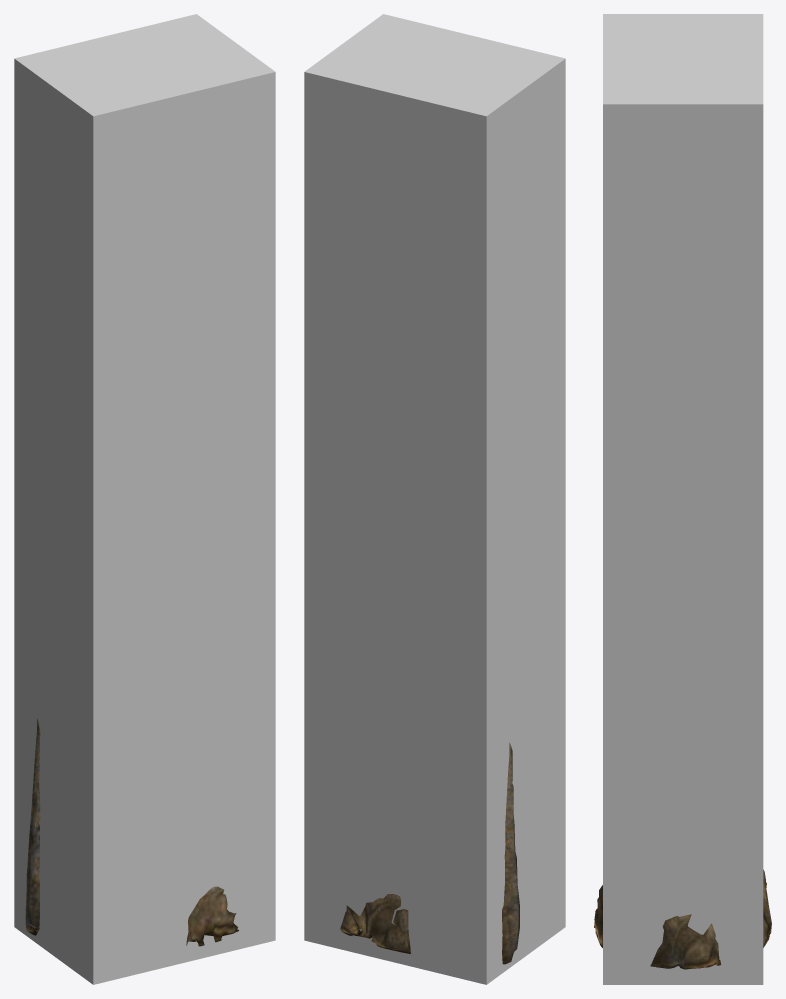
File: reliquary_lite.glb
The picture shows the model from 3 angles, left to right: view 1: azimuth 30°, elevation 25°; view 2: azimuth 150°, elevation 25°; view 3: azimuth 270°, elevation 25°; orthographic projection.
Visible parts, largest first — view 1: col_reliquary, reliquary; view 2: col_reliquary, reliquary; view 3: col_reliquary, reliquary.
Boxes of the visible parts, box(x1,y1,x2,y2) form: col_reliquary: box(14, 14, 275, 984); reliquary: box(25, 718, 238, 946); col_reliquary: box(304, 14, 565, 984); reliquary: box(340, 743, 519, 964); col_reliquary: box(603, 14, 763, 984); reliquary: box(594, 869, 771, 969).
Size of the model in its own units: 0.1252 by 0.5148 by 0.0943.
1 material, 1 textured.
